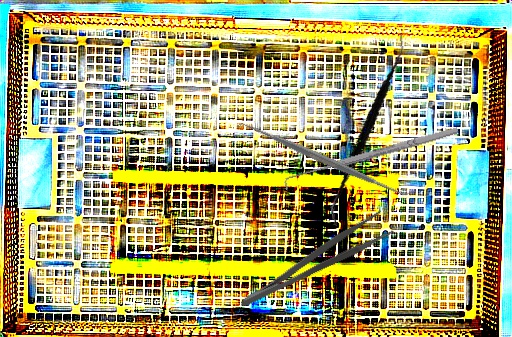Dressing Forceps: (231, 208, 396, 312)
Hook Surgical: (282, 124, 461, 192)
Spatula Surgical: (302, 33, 435, 227), (234, 111, 416, 208)
